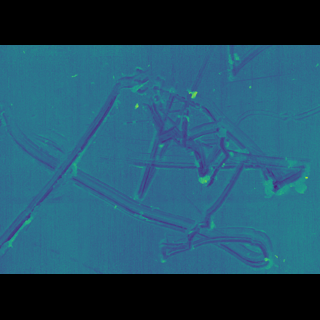Loch: (0, 76, 312, 237)
